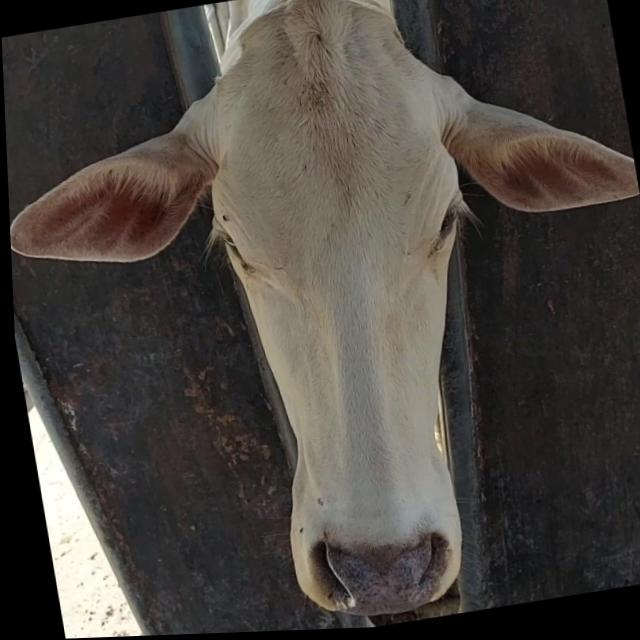cowFace: (178, 0, 525, 635)
